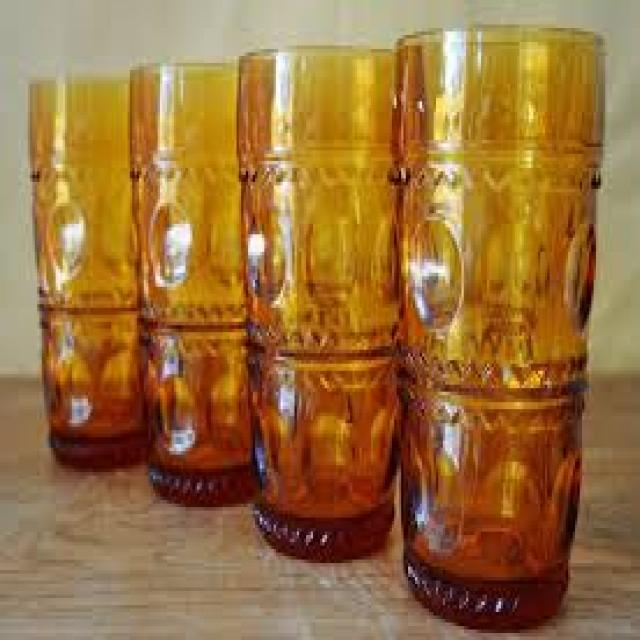glass: (387, 25, 605, 623), (234, 42, 408, 560), (125, 63, 255, 507), (25, 70, 144, 472)
